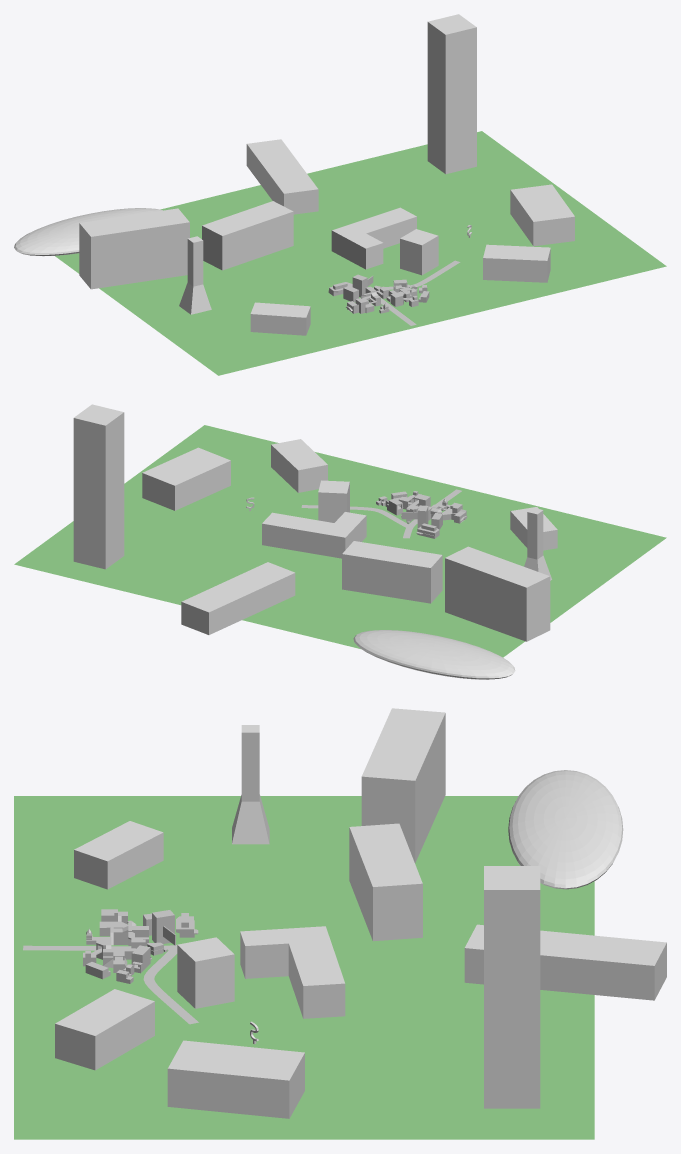
File: MainMapModel.fbx
3 renders of one model, top to bottom at view 1: azimuth 30°, elevation 25°; view 2: azimuth 150°, elevation 25°; view 3: azimuth 270°, elevation 25°, orthographic. The views are drawn at different scales.
Visible parts, largest first — view 1: Plane, Cube.010, Cube.001, Cube.002, Cube.003, Cube.004, Cube.006, Sphere, Cube.007, Cube.008, Cube.005, Cube.009; view 2: Plane, Cube.010, Cube.001, Sphere, Cube.002, Cube.003, Cube.006, Cube.004, Cube.007, Cube.005, Cube.009, Cube.008; view 3: Plane, Cube.010, Sphere, Cube.001, Cube.006, Cube.003, Cube.002, Cube.004, Cube.007, Cube.008, Cube.005, Cube.009 (+2 smaller).
Boxes of the visible parts, box(x1,y1,x2,y2) form: Plane: box(55, 131, 666, 375); Cube.010: box(427, 14, 476, 174); Cube.001: box(79, 208, 189, 289); Cube.002: box(202, 201, 293, 270); Cube.003: box(246, 139, 318, 214); Cube.004: box(331, 207, 416, 269); Cube.006: box(510, 184, 574, 246); Sphere: box(14, 208, 162, 256); Cube.007: box(483, 244, 550, 282); Cube.008: box(250, 302, 310, 335); Cube.005: box(400, 229, 438, 275); Cube.009: box(179, 236, 211, 314); Plane: box(14, 425, 666, 657); Cube.010: box(73, 404, 124, 569); Cube.001: box(445, 546, 550, 641); Sphere: box(353, 630, 515, 679); Cube.002: box(342, 541, 442, 603); Cube.003: box(181, 562, 295, 634); Cube.006: box(142, 447, 230, 510); Cube.004: box(262, 512, 366, 558); Cube.007: box(271, 439, 327, 492); Cube.005: box(318, 480, 349, 522); Cube.009: box(524, 507, 551, 580); Cube.008: box(510, 507, 557, 550); Plane: box(14, 796, 594, 1139); Cube.010: box(484, 866, 540, 1108); Sphere: box(508, 770, 623, 889); Cube.001: box(361, 708, 445, 862); Cube.006: box(167, 1040, 304, 1118); Cube.003: box(464, 924, 666, 1000); Cube.002: box(349, 823, 422, 941); Cube.004: box(240, 926, 345, 1018); Cube.007: box(55, 989, 154, 1070); Cube.008: box(74, 821, 163, 889); Cube.005: box(177, 937, 234, 1008); Cube.009: box(232, 725, 269, 844).
Size of the model in its own units: 74148 by 21476 by 56226.
